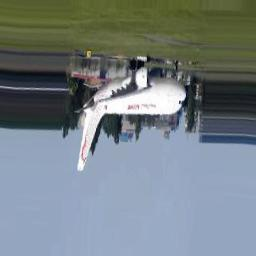Airplane: (71, 67, 189, 172)
